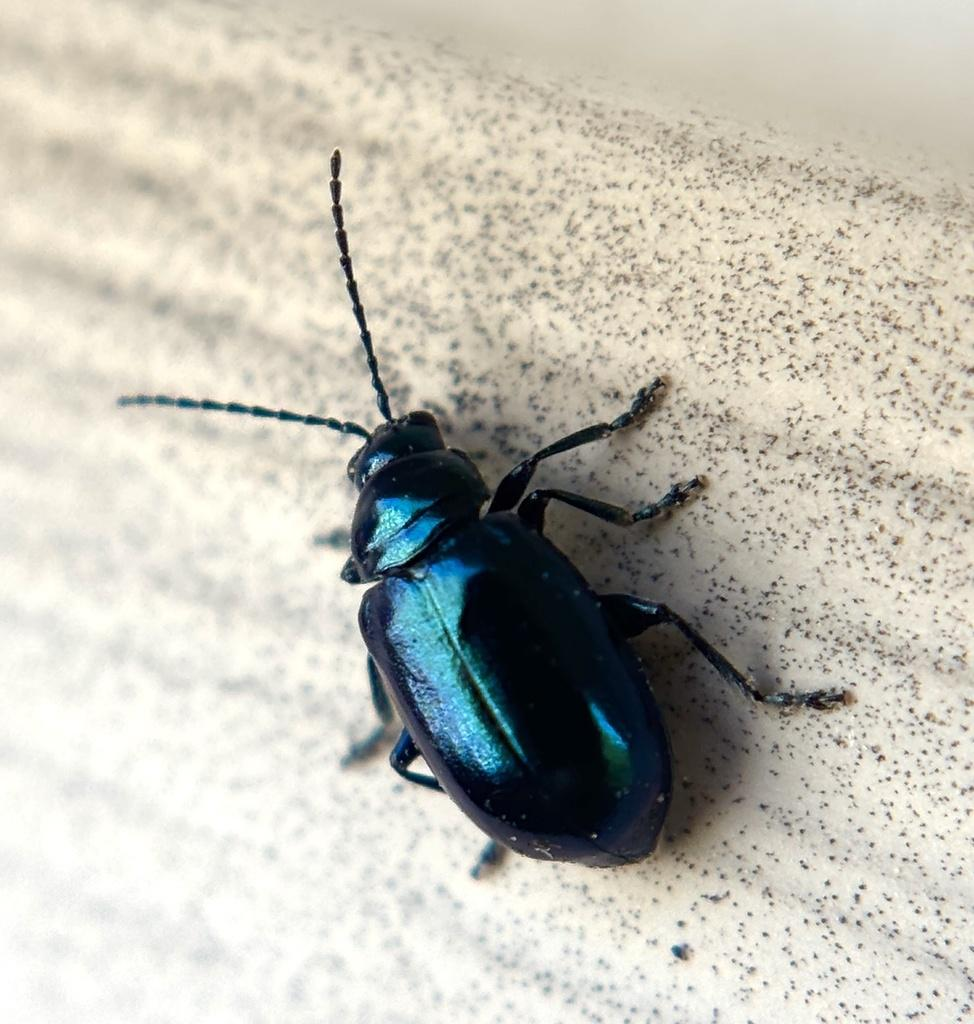flea_beetle: (76, 107, 881, 947)
